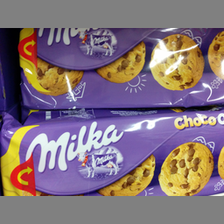chocolate: (2, 112, 224, 196), (21, 28, 224, 110)
